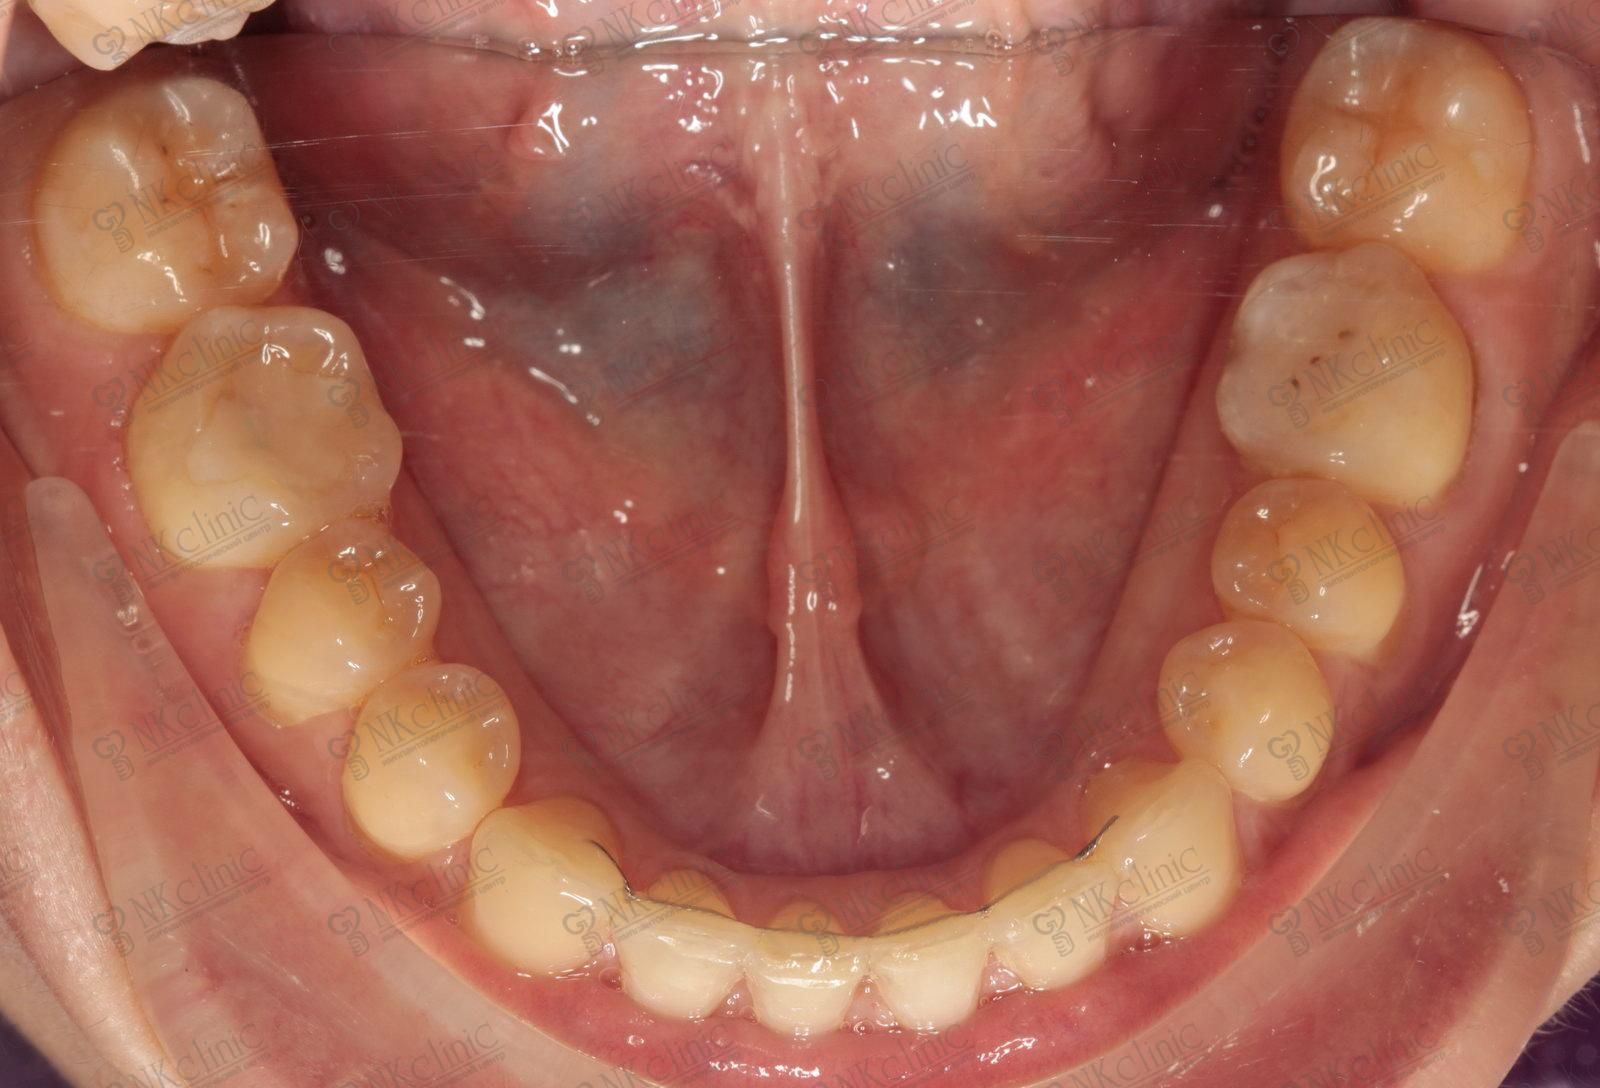LL1BC_healthy: (1148, 614, 1341, 801)
LL1M_decay: (1213, 257, 1486, 501)
LL2BC_healthy: (1212, 484, 1408, 661)
LL2M_healthy: (1281, 18, 1537, 277)
LLCI_decay: (866, 896, 981, 1045)
LLC_decay: (1080, 746, 1252, 947)
LLLI_decay: (989, 850, 1117, 991)
LR1BC_healthy: (352, 659, 531, 862)
LR1M_healthy: (106, 305, 405, 572)
LR2BC_healthy: (236, 520, 472, 714)
LR2M_decay: (32, 90, 299, 334)
LRCI_decay: (747, 899, 875, 1043)
LRC_decay: (473, 790, 632, 977)
LRLI_decay: (615, 867, 768, 1013)
